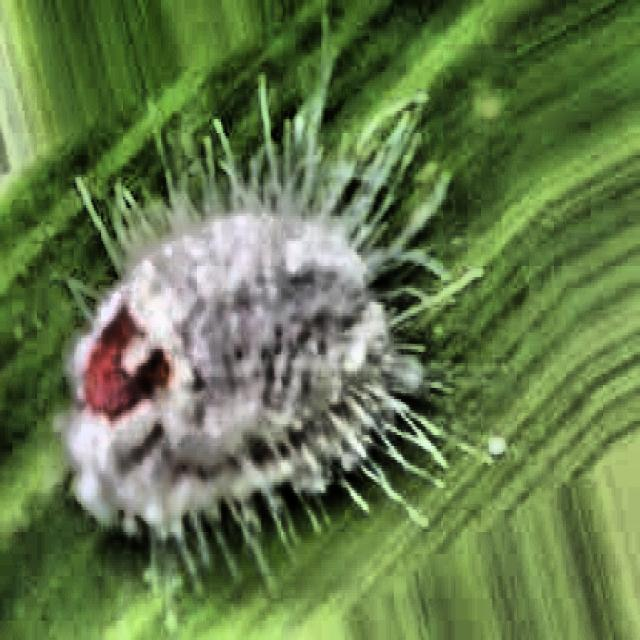Mealy-bug: (49, 76, 447, 550)
